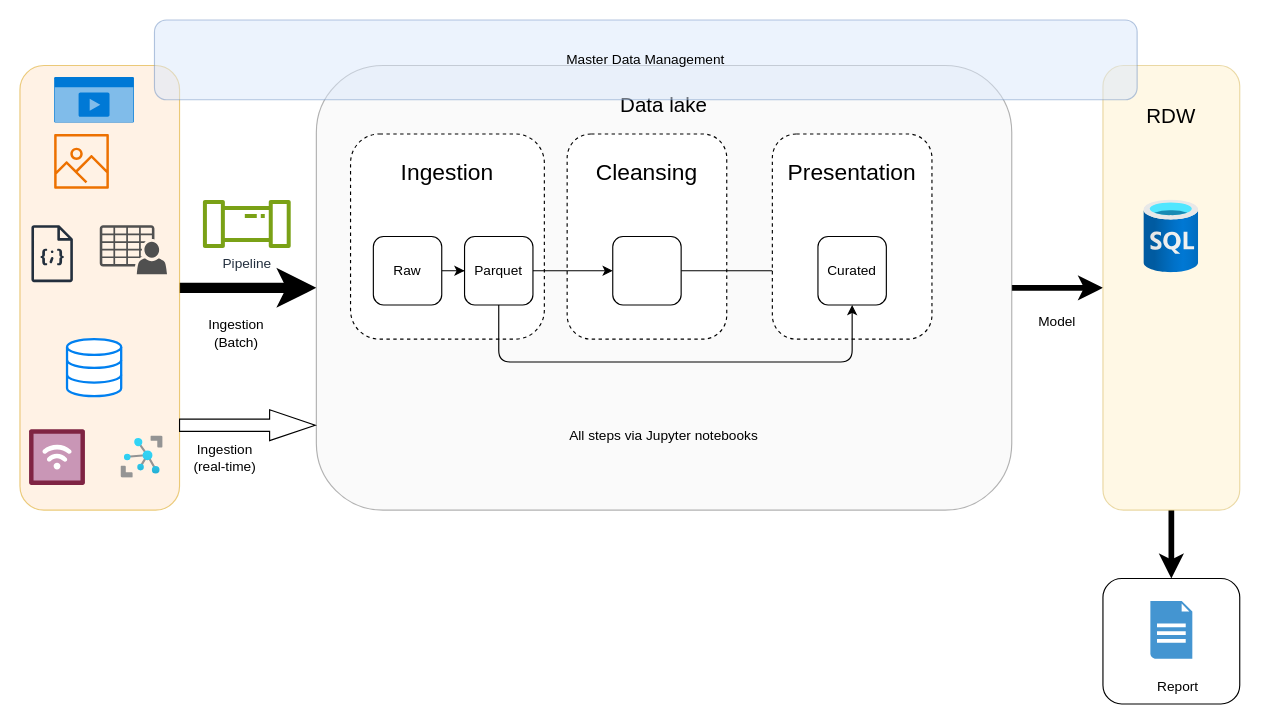
Image size: 1283x724. Some labels were removed from this diagram. The shapes that lost their labels are listed below. From the top down, each one's centre as x and y in pixels, then its label:
pixel 93 99: Video
pixel 646 270: Enriched
